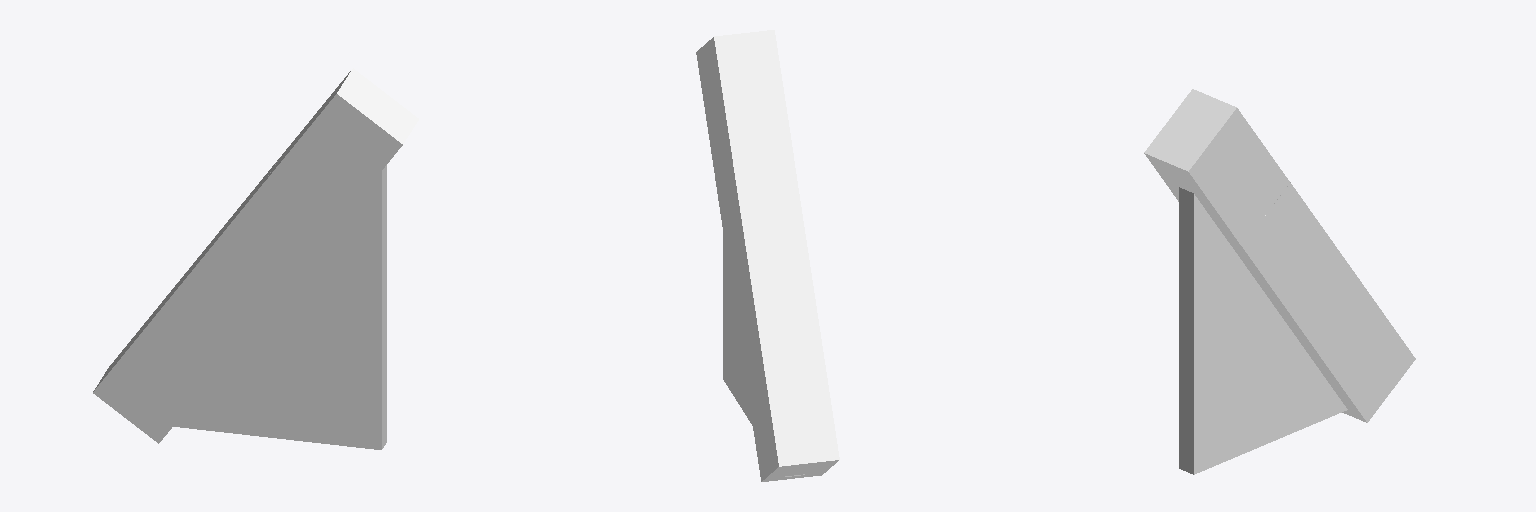
The model's file is mt_roof_hip_steep.obj.
3 renders of one model, left to right at view 1: azimuth 30°, elevation 25°; view 2: azimuth 150°, elevation 25°; view 3: azimuth 270°, elevation 25°, orthographic.
Parts seen in each view (by area): view 1: cube, cube.004, cube.005, cube.003, cube.001, cube.000, cube.002; view 2: cube.004, cube.003, cube.005, cube; view 3: cube, cube.005, cube.004, cube.003, cube.001, cube.002, cube.000.
Part boxes in pixels (x1,y1,x2,y2): cube: (220,288,386,449); cube.004: (171,159,329,347); cube.005: (264,68,418,233); cube.003: (93,273,236,443); cube.001: (287,215,386,297); cube.000: (173,370,219,431); cube.002: (344,165,386,221); cube.004: (715,158,818,343); cube.003: (740,322,839,481); cube.005: (696,30,793,179); cube: (723,233,752,425); cube: (1179,293,1312,474); cube.005: (1144,89,1289,246); cube.004: (1228,182,1357,341); cube.003: (1297,278,1415,422); cube.001: (1179,215,1265,322); cube.002: (1179,187,1222,246); cube.000: (1313,361,1347,423).
Bounding box in the file's own units: 1.62 × 2.44 × 1.62.